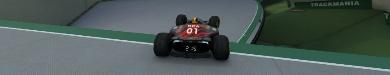Car: (153, 14, 229, 60)
